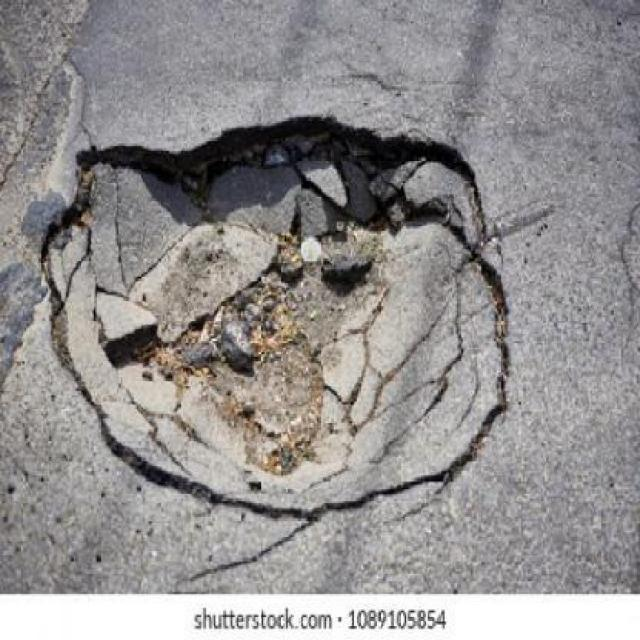Buraco: (36, 111, 516, 530)
